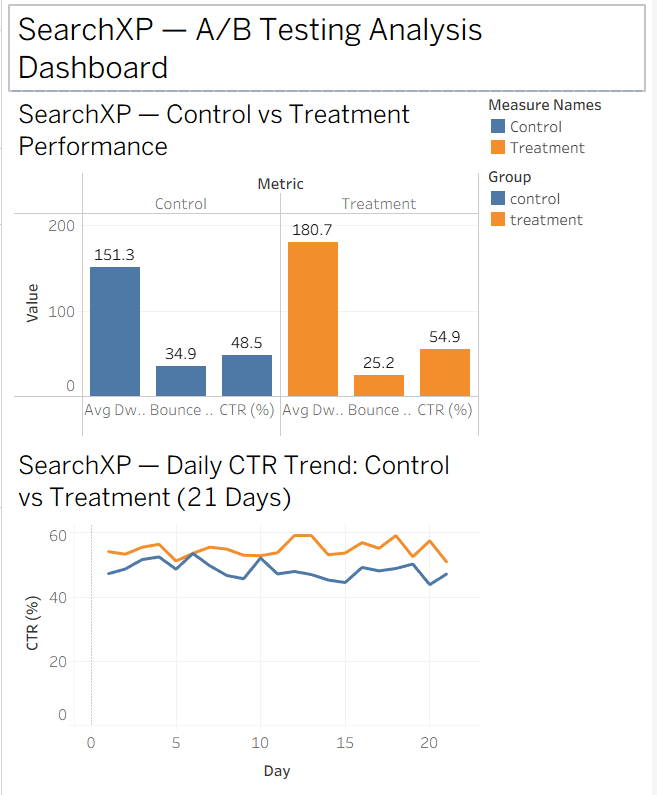

What the dashboard file says about the page in this screenshot:
{"tool":"tableau","page":{"name":"SearchXP Dashboard","canvas":[650,860],"ordinal":0},"visuals":[{"type":"title","box":[8,8.6,634,90.1]},{"type":"worksheet","title":"Sheet 1","mark":"Automatic","cols":["metric"],"box":[8,98.7,474,376.4]},{"type":"legend","title":"Sheet 1","param":"[federated.0i2nbhu12fvl271al5x1k1n2530c].[:Measure Names]","box":[482,98.7,160,77.2]},{"type":"legend","title":"Sheet 2","param":"[federated.1bi4qzc01edtlh139agxc1kd83r7].[none:group:nk]","box":[482,175.9,160,77.2]},{"type":"worksheet","title":"Sheet 2","mark":"Automatic","rows":["ctr"],"cols":["day"],"box":[8,475,474,376.4]}]}

Visuals, with their boxes on the page's 650x860 design canvas (x1, y1, x2, y2). These are canvas units, not pixel positions in the 657x795 screenshot, which may show the page scaled, cropped or inside an application window:
title: 8 9 642 99
"Sheet 1" worksheet: 8 99 482 475
"Sheet 1" legend: 482 99 642 176
"Sheet 2" legend: 482 176 642 253
"Sheet 2" worksheet: 8 475 482 851
